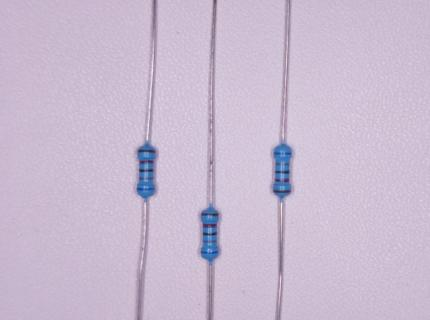Black band: (203, 232, 217, 236), (139, 169, 153, 172), (275, 171, 289, 174)
Blue band: (201, 251, 218, 254), (274, 152, 292, 154), (137, 188, 154, 190)
Brown band: (138, 150, 156, 153), (201, 213, 219, 216), (274, 190, 290, 193)
Grey band: (139, 177, 153, 180), (203, 240, 217, 243), (275, 163, 289, 166)
Red band: (140, 160, 154, 164), (203, 224, 217, 228), (275, 178, 289, 182)
